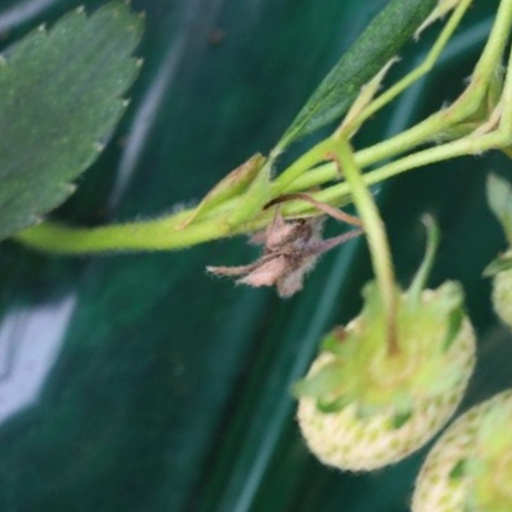Gray Mold: (225, 211, 322, 352)
